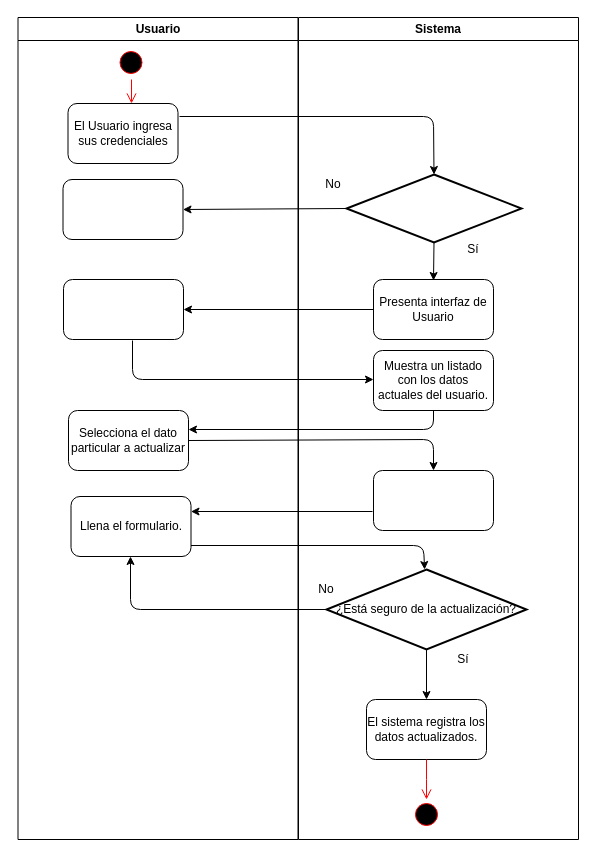
Image size: 596x857. Some labels were removed from this diagram. The centre of each missing label's shape, as x and y in pixels:
"Muestra formulario de actualización del dato" goes at point (433, 500).
"Selecciona el apartado de “Modificar datos de usuario”" goes at point (123, 309).
"Ver CU. Dar de alta Usuario" goes at point (122, 209).
"¿Está dado de alta en el sistema?" goes at point (433, 208).
